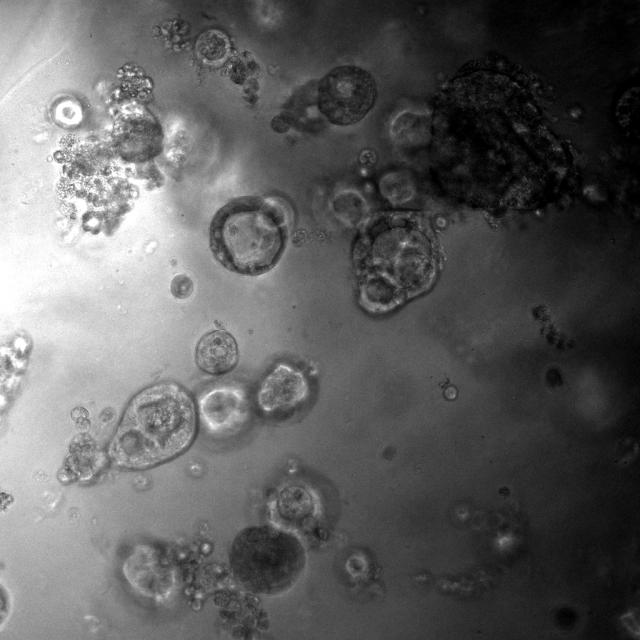organoid: (317, 58, 615, 320), (53, 63, 189, 235), (118, 523, 268, 639), (57, 383, 196, 483), (154, 18, 258, 103), (271, 66, 376, 134), (261, 460, 339, 548), (209, 197, 288, 276), (229, 525, 305, 594), (0, 332, 32, 413), (259, 363, 308, 413), (612, 72, 639, 142), (532, 304, 574, 349), (196, 329, 238, 373), (171, 274, 192, 299), (0, 582, 11, 629), (358, 148, 378, 168), (545, 367, 562, 388), (99, 407, 115, 423), (443, 384, 458, 401), (0, 492, 14, 510)
